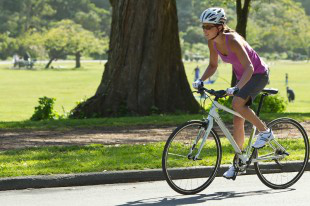bikerider: (154, 5, 310, 200)
